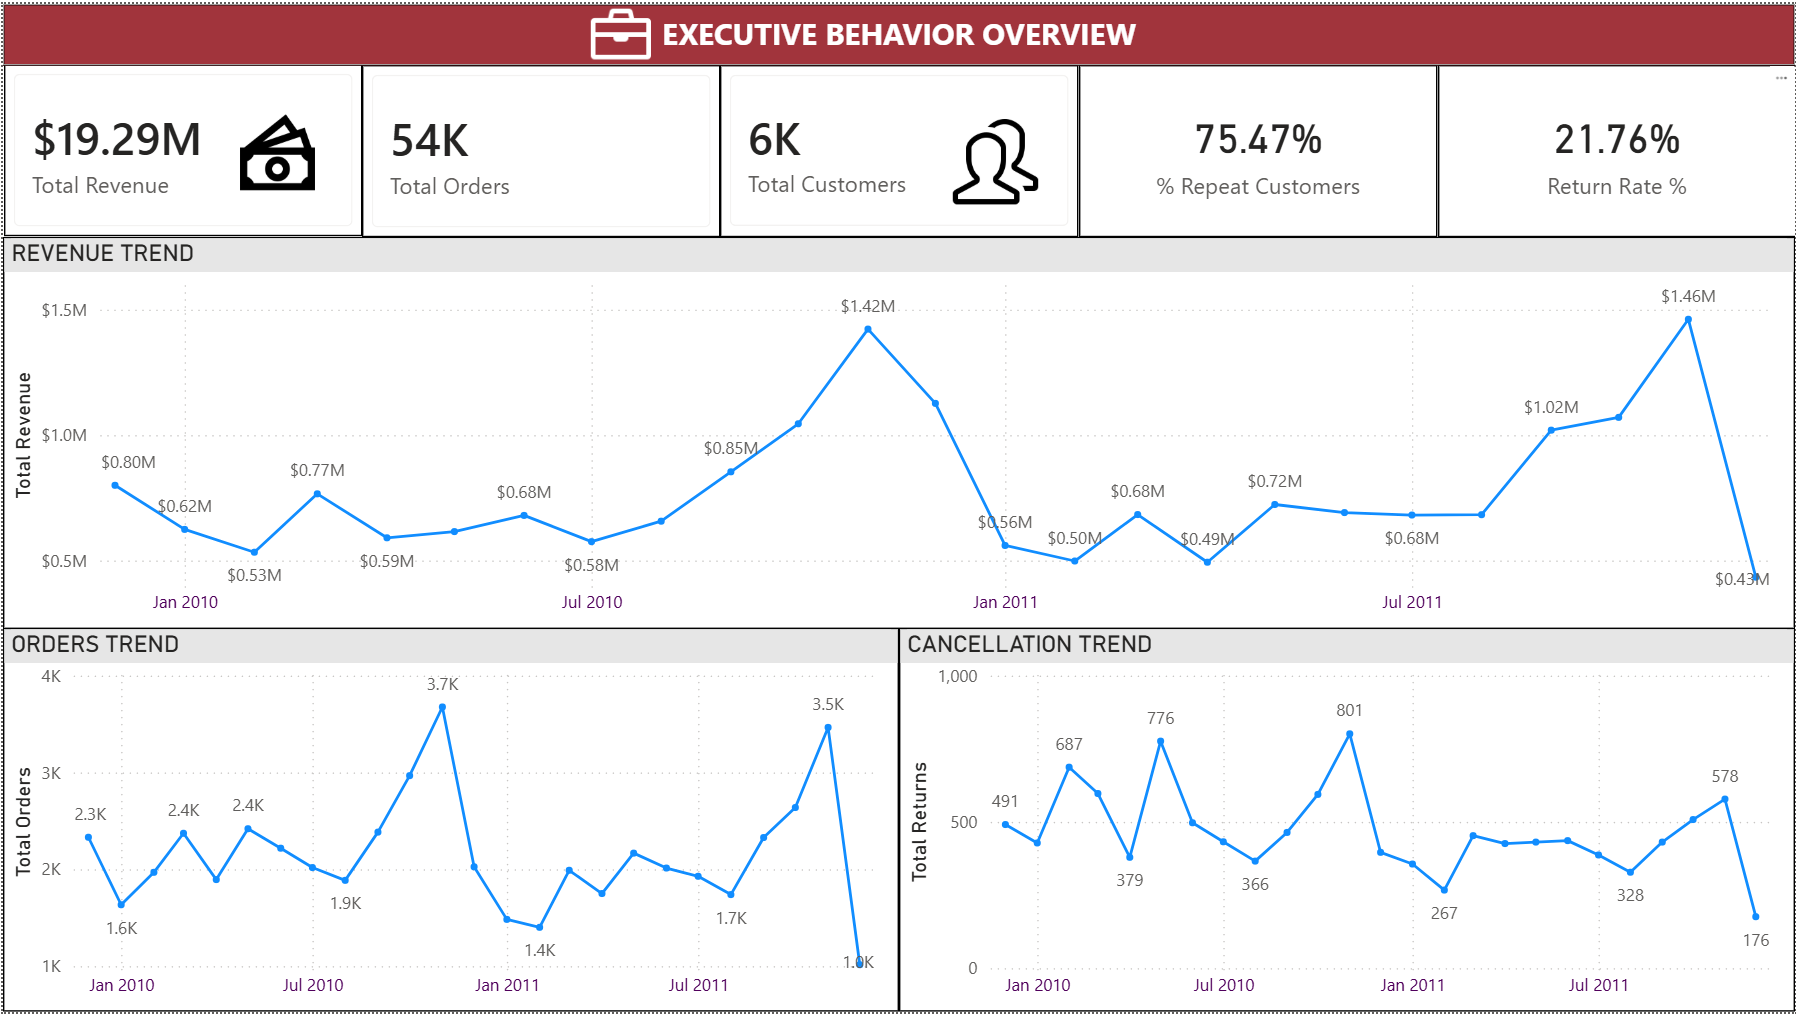

The page's visual inventory and layout, read from the dashboard file:
{"tool":"powerbi","page":{"name":"Executive Behavior Overview","canvas":[1280,720],"ordinal":0},"visuals":[{"type":"cardVisual","fields":{"Data":["invoice_summary.Total Revenue"]},"box":[0.8,43.1,256.2,123.1],"z":0},{"type":"cardVisual","fields":{"Data":["invoice_summary.Total Orders"]},"box":[256.8,43.3,256,123],"z":1000},{"type":"cardVisual","fields":{"Data":["customer_summary.Total Customers"]},"box":[512.1,43.6,256.4,122.9],"z":2000},{"type":"card","fields":{"Values":["invoice_summary.Repeat customers %"]},"box":[768.8,43.3,256,123],"z":3000},{"type":"card","fields":{"Values":["invoice_summary.return rate"]},"box":[1024.8,43.3,256,123],"z":4000},{"type":"textbox","box":[0,0,1280,43.8],"z":5000},{"type":"lineChart","title":"REVENUE TREND","fields":{"Category":["Date.Date.Variation.Date Hierarchy.Year","Date.Date.Variation.Date Hierarchy.Month"],"Y":["invoice_summary.Total Revenue"]},"box":[0,166.2,1280,280],"z":6000},{"type":"lineChart","title":"ORDERS TREND","fields":{"Y":["invoice_summary.Total Orders"],"Category":["Date.Date.Variation.Date Hierarchy.Year","Date.Date.Variation.Date Hierarchy.Month"]},"box":[0,446,640,274],"z":7000},{"type":"lineChart","title":"CANCELLATION TREND","fields":{"Category":["Date.Date.Variation.Date Hierarchy.Year","Date.Date.Variation.Date Hierarchy.Month"],"Y":["CountNonNull(invoice_summary.return_flag)"]},"box":[640,446,640,274],"z":8000},{"type":"image","box":[163.3,77.3,64.7,61.3],"z":8002},{"type":"image","box":[676.7,82,64.7,61.3],"z":8003},{"type":"image","box":[417.7,0,46.2,43.1],"z":8004}]}

Visuals, with their boxes in screenshot pixels (x1, y1, x2, y2), scaled from the page's 1280x720 canvas onto the 1796x1014 screenshot:
cardVisual - invoice_summary.Total Revenue: box(1, 61, 361, 234)
cardVisual - invoice_summary.Total Orders: box(360, 61, 720, 234)
cardVisual - customer_summary.Total Customers: box(719, 61, 1078, 234)
card - invoice_summary.Repeat customers %: box(1079, 61, 1438, 234)
card - invoice_summary.return rate: box(1438, 61, 1795, 234)
textbox: box(0, 0, 1795, 62)
"REVENUE TREND" lineChart: box(0, 234, 1795, 628)
"ORDERS TREND" lineChart: box(0, 628, 898, 1013)
"CANCELLATION TREND" lineChart: box(898, 628, 1795, 1013)
image: box(229, 109, 320, 195)
image: box(949, 115, 1040, 202)
image: box(586, 0, 651, 61)
